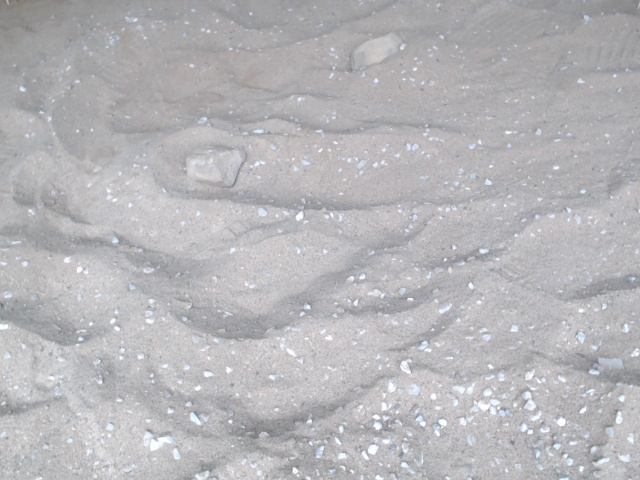rock: (179, 139, 251, 193), (343, 27, 409, 78)
